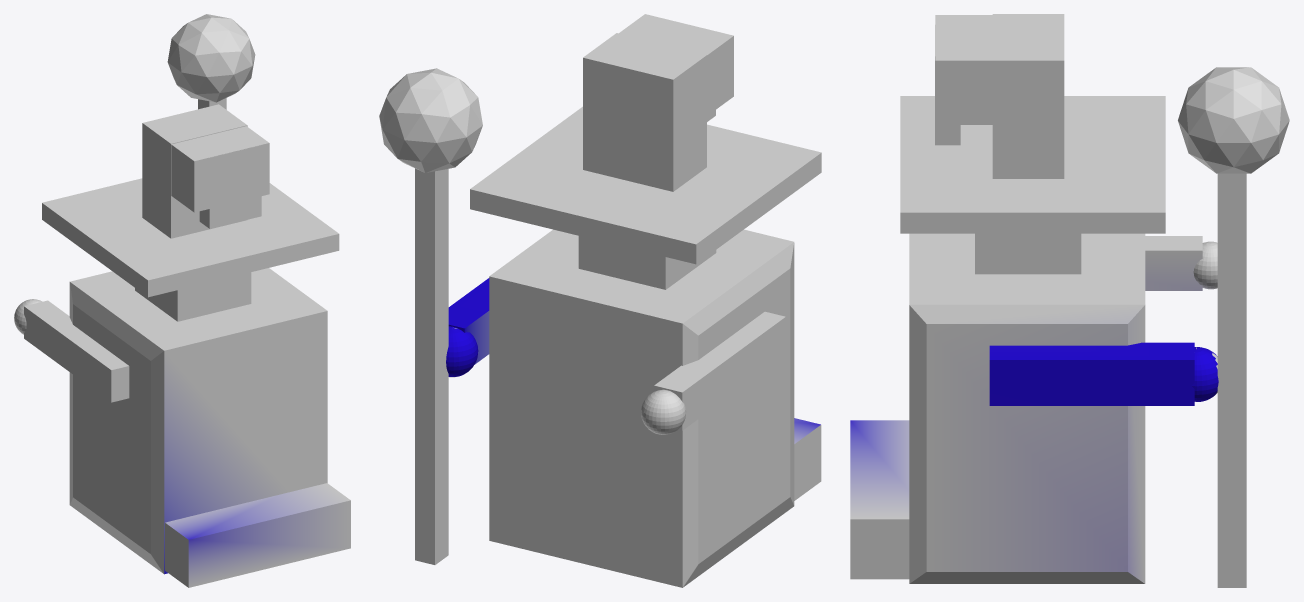
File: m_wizard_joe.fbx
3 renders of one model, left to right at view 1: azimuth 30°, elevation 25°; view 2: azimuth 150°, elevation 25°; view 3: azimuth 270°, elevation 25°, orthographic. The views are drawn at different scales.
Parts seen in each view (by area): view 1: Cube; view 2: Cube; view 3: Cube.
Boxes of the visible parts, x1,y1,x2,y2 form: Cube: (14,14,350,587); Cube: (379,14,821,587); Cube: (850,14,1289,587).
Bounding box in the file's own units: 535 × 888 × 677.
